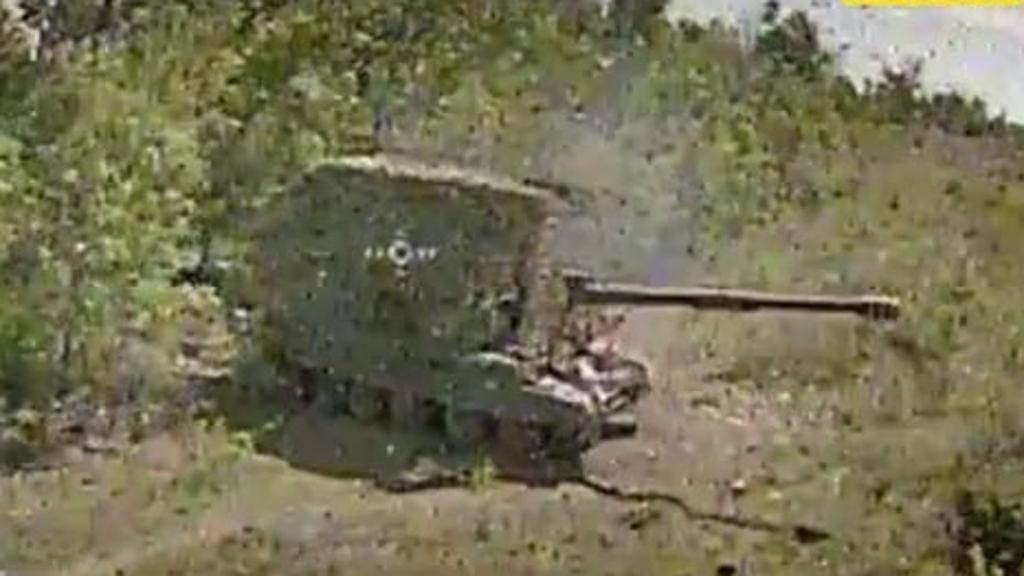ART: (258, 150, 901, 457)
